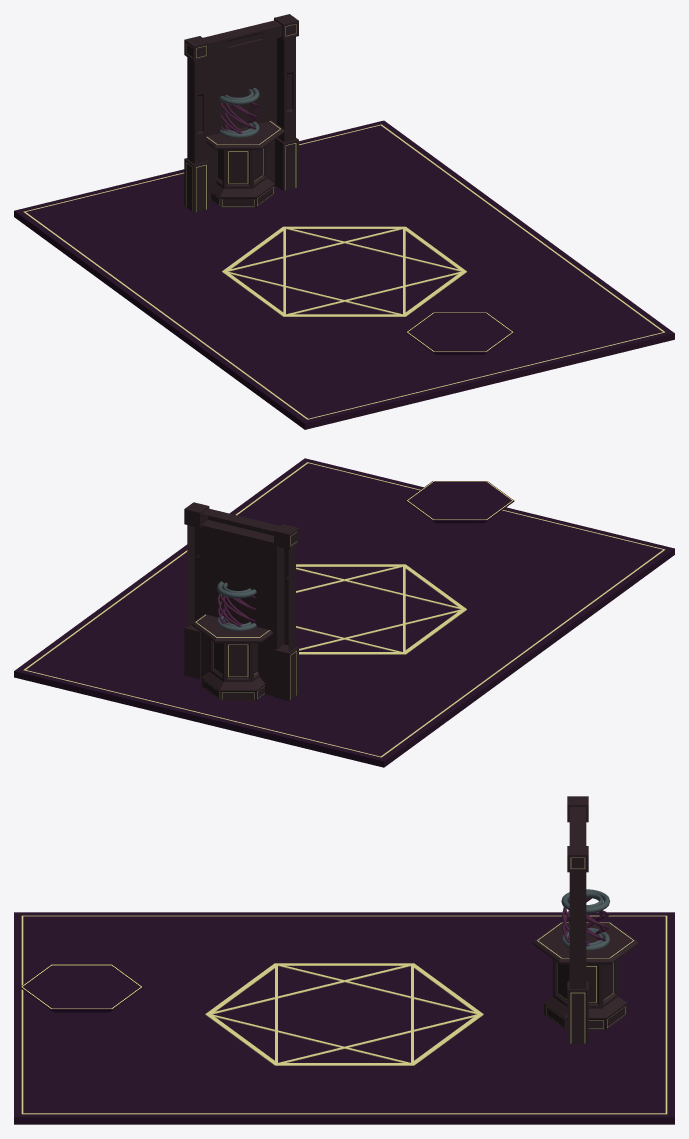
The model's file is parcour_door.fbx.
3 views of the same model, one above another, from view 1: azimuth 30°, elevation 25°; view 2: azimuth 150°, elevation 25°; view 3: azimuth 270°, elevation 25° (orthographic). The views are drawn at different scales.
Visible parts, largest first — view 1: Floor, Entrance, Pedestal, Mark, Platform, SpiralL; view 2: Floor, Entrance, Pedestal, Platform, Mark, SpiralL; view 3: Floor, Pedestal, Mark, Entrance, Platform, SpiralL, SpiralR.
Part boxes in pixels (left/top/right/bottom): Floor: left=14, top=120, right=674, bottom=429; Entrance: left=184, top=14, right=298, bottom=212; Pedestal: left=206, top=120, right=284, bottom=207; Mark: left=222, top=226, right=466, bottom=316; Platform: left=405, top=312, right=514, bottom=354; SpiralL: left=219, top=88, right=259, bottom=137; Floor: left=14, top=458, right=674, bottom=767; Entrance: left=184, top=502, right=298, bottom=701; Pedestal: left=191, top=614, right=272, bottom=700; Platform: left=406, top=481, right=514, bottom=523; Mark: left=296, top=564, right=466, bottom=654; SpiralL: left=217, top=581, right=256, bottom=631; Floor: left=14, top=912, right=674, bottom=1124; Pedestal: left=532, top=922, right=638, bottom=1029; Mark: left=205, top=963, right=483, bottom=1065; Entrance: left=567, top=796, right=588, bottom=1043; Platform: left=20, top=964, right=143, bottom=1012; SpiralL: left=561, top=889, right=609, bottom=950; SpiralR: left=568, top=892, right=603, bottom=945.
Size of the model in its own units: 588 by 262 by 800.
Materials: 6 (1 with a texture image).
